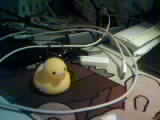duck: (24, 59, 75, 91)
